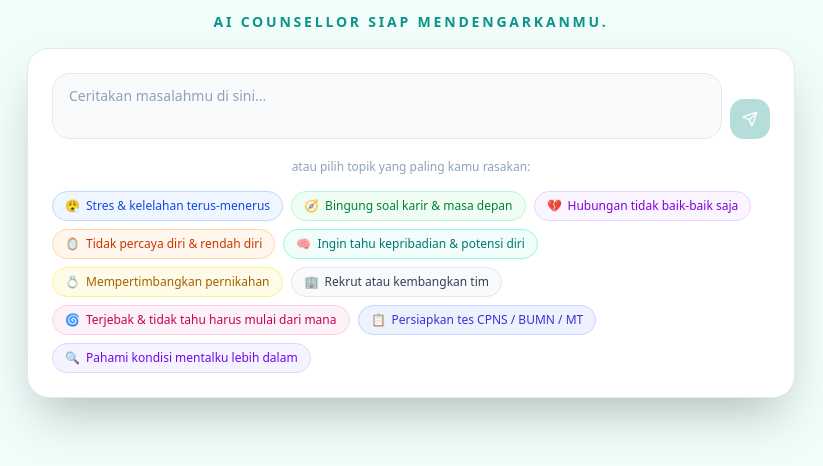
Test case: PsikotesDiagnostic › resets recommendations on reset
Click the text "Stres & kelelahan terus-menerus" at (178, 206), box [86,198,270,214]
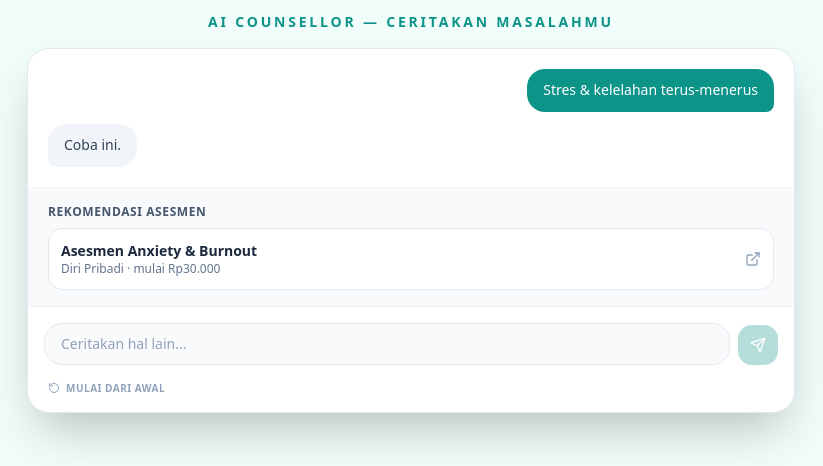
Expected: the text "Asesmen Anxiety & Burnout" is shown, [61,240,257,260]
Click the button "Mulai Dari Awal" at (106, 388), box [48,380,165,396]
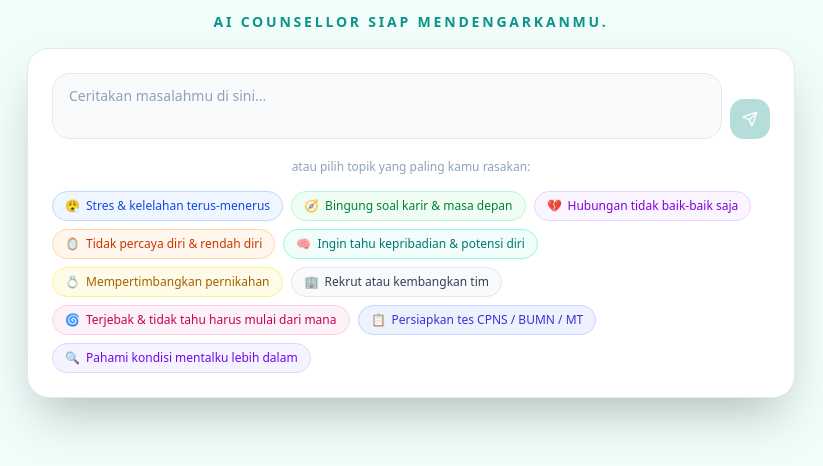
Expected: the link "Asesmen Anxiety & Burnout" is gone
